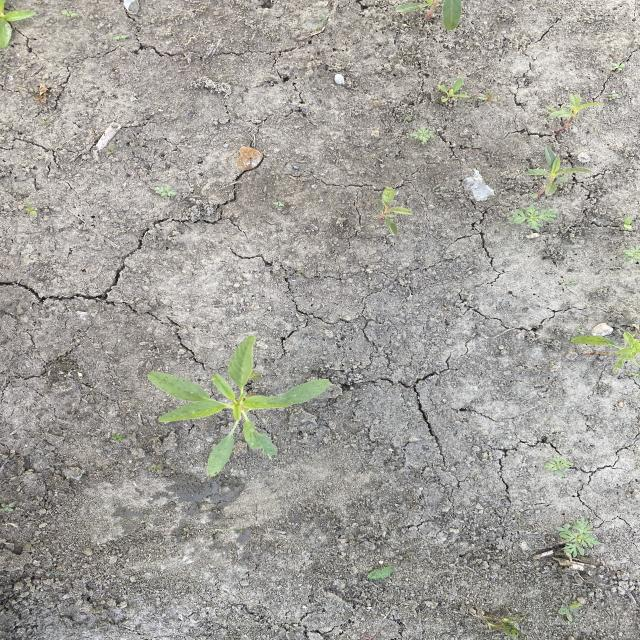Ragweed: (552, 515, 604, 559), (504, 203, 558, 232), (403, 123, 439, 147), (542, 456, 576, 480)
Waterhemp: (145, 333, 332, 477), (521, 146, 592, 199), (573, 327, 639, 376), (541, 91, 607, 135), (369, 185, 416, 238), (393, 2, 468, 31)
